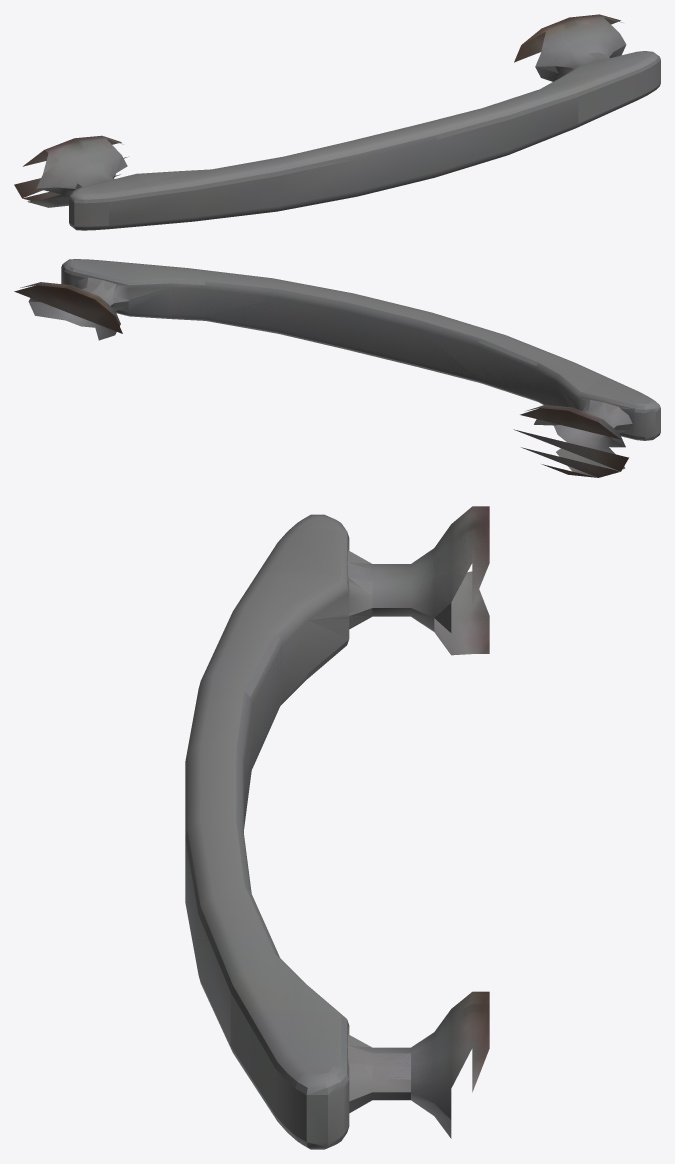
The model's file is link_2__handle-129.glb.
3 renders of one model, top to bottom at view 1: azimuth 30°, elevation 25°; view 2: azimuth 150°, elevation 25°; view 3: azimuth 270°, elevation 25°, orthographic. The views are drawn at different scales.
Visible parts, largest first — view 1: geometry_0; view 2: geometry_0; view 3: geometry_0.
Part boxes in pixels (x1,y1,x2,y2): geometry_0: (14, 14, 660, 230); geometry_0: (14, 259, 660, 477); geometry_0: (185, 506, 489, 1149).
Size of the model in its own units: 0.0975 by 0.00972 by 0.0212.
Materials: 1 (1 with a texture image).
